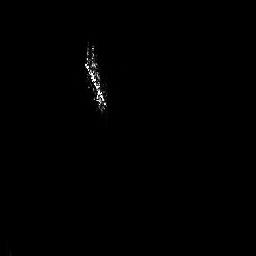ship: (83, 41, 108, 112)
